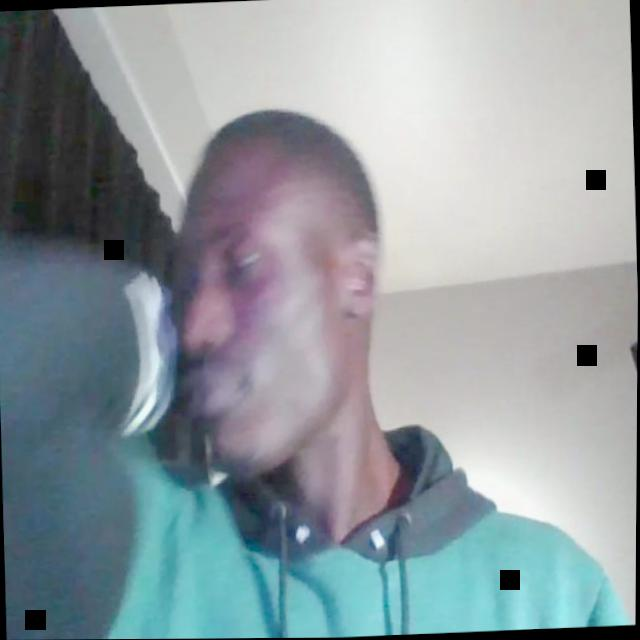NO-Mask: (169, 177, 355, 479)
